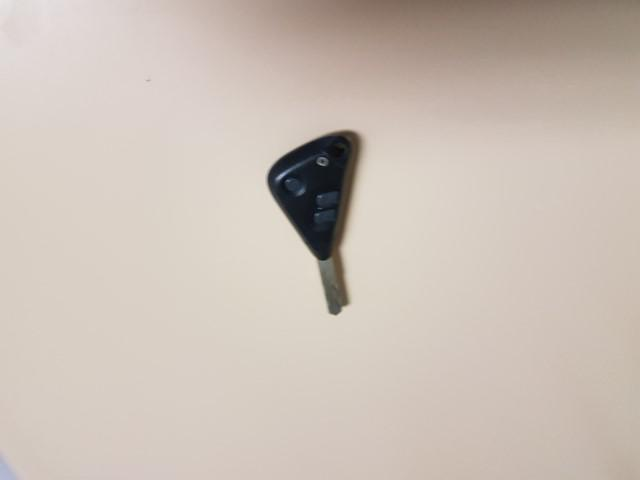key: (263, 127, 369, 323)
